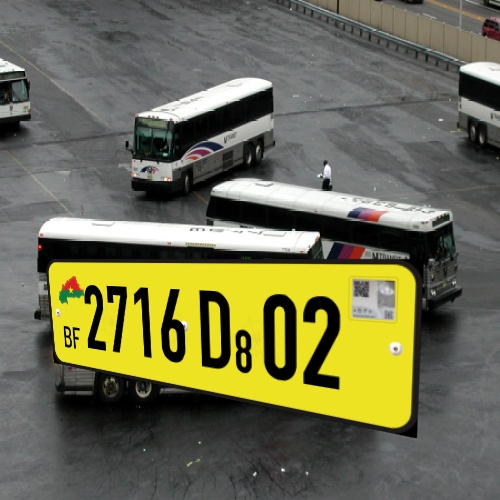plate: (36, 239, 442, 441)
